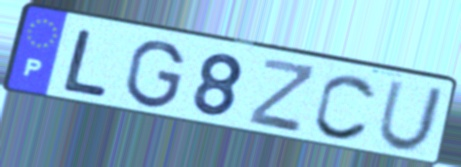8: (191, 51, 244, 119)
C: (311, 71, 380, 143)
G: (122, 38, 187, 110)
L: (59, 26, 111, 100)
U: (374, 79, 447, 155)
Z: (245, 56, 319, 137)
